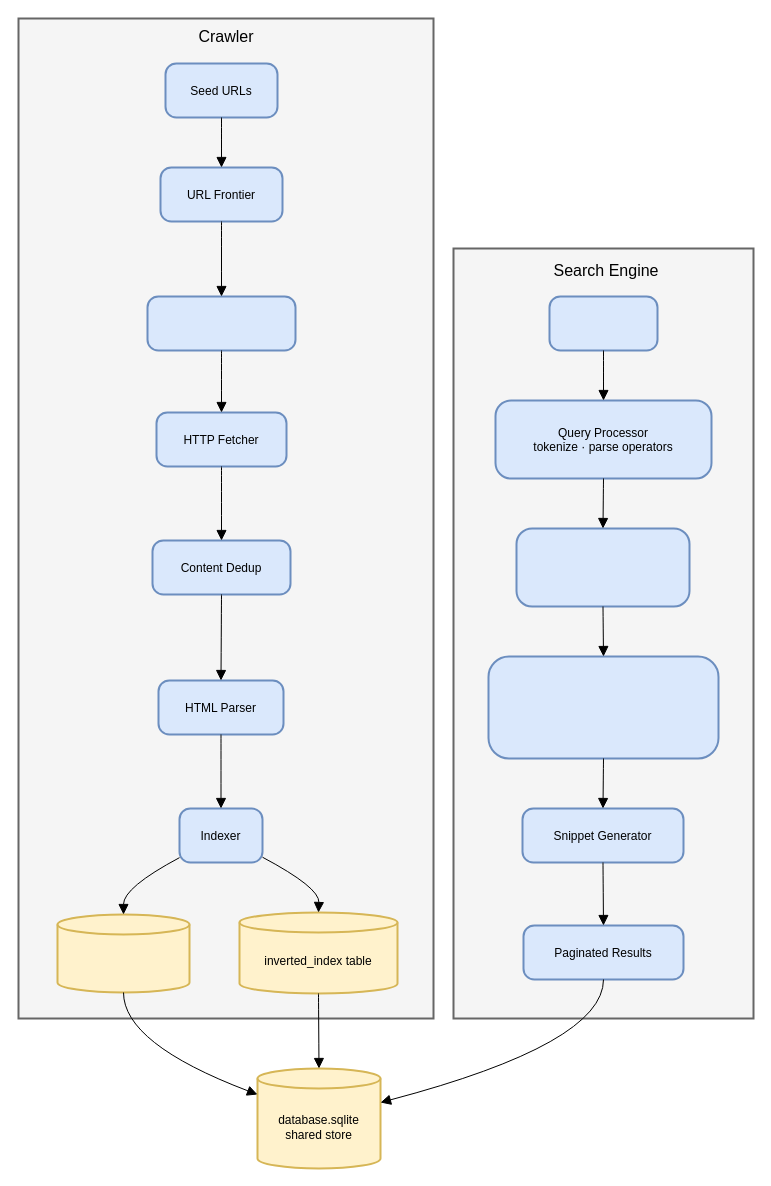
Image size: 771x1186. Some labels were removed from this diagram. Here are the shapes that lost their labels. From the top down, the centre of each, then its label:
[221,323]: Robots.txt check
[603,323]: User query
[602,567]: Retriever inverted_index table
[603,707]: Ranker TF-IDF × 0.50 + PageRank × 0.35 + Freshness × 0.15
[123,953]: documents table
